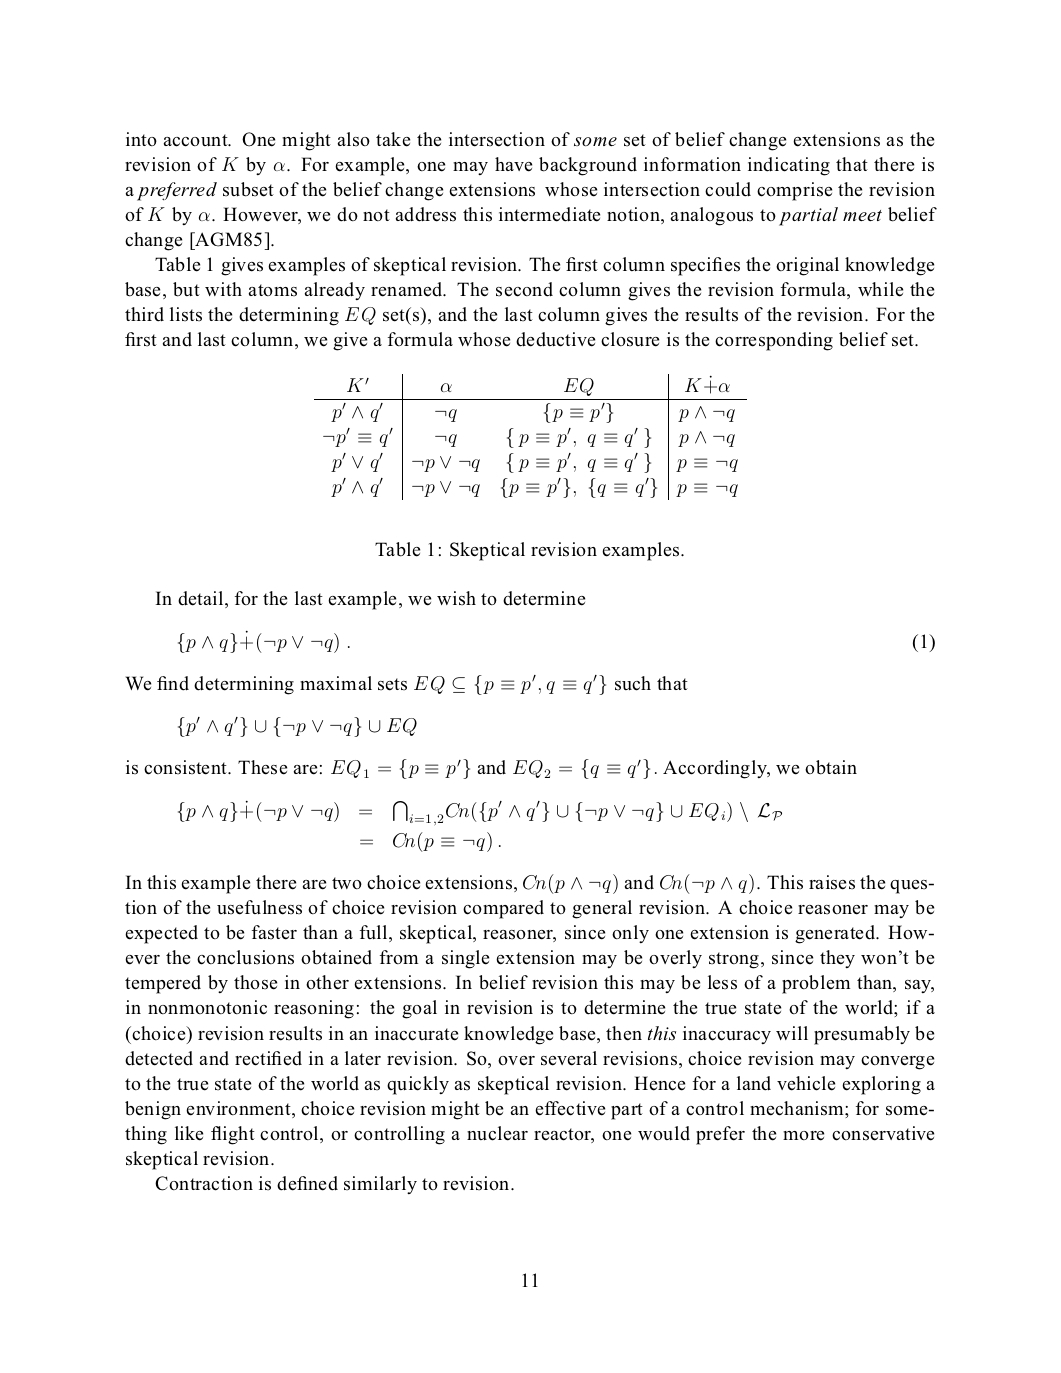Table: (314, 373, 746, 500)
formula: (177, 629, 934, 653), (177, 799, 782, 826), (177, 715, 416, 737), (360, 831, 500, 853)
